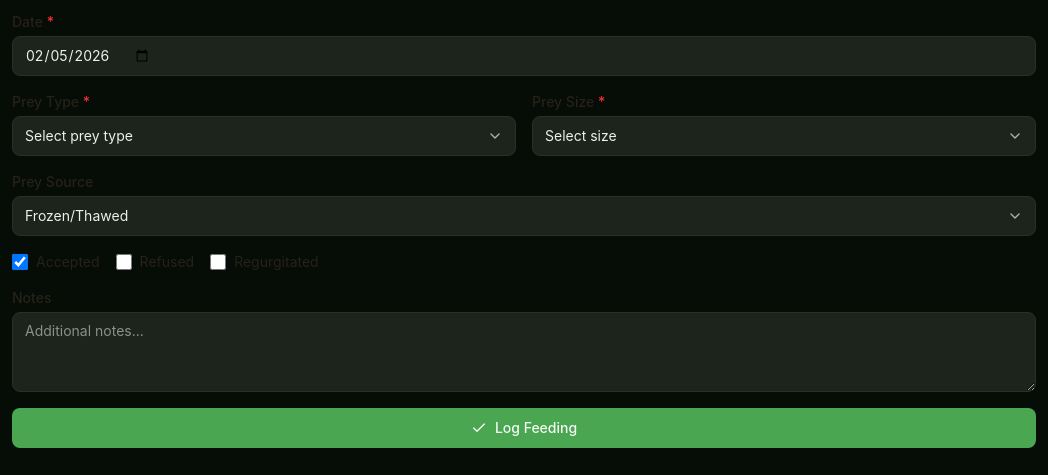
Test case: FeedingForm › prey options › should display all prey type options
The image size is (1048, 475).
Click the dropdown labelled "Select prey type" at x=79, y=136, box [12,116,516,156]
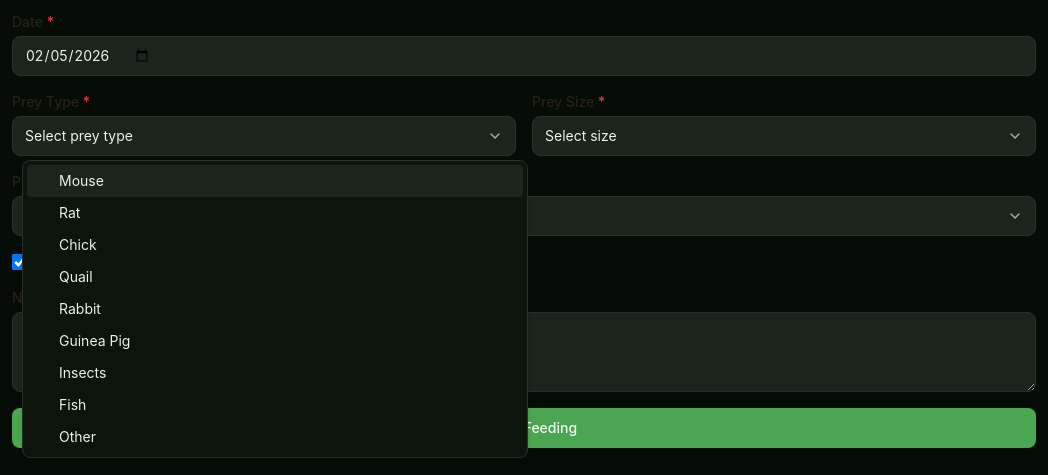
Now the option "Mouse" is shown, box [27,165,523,197]
Now the option "Rat" is shown, box [59,204,80,221]
Now the option "Chick" is shown, box [59,236,97,253]
